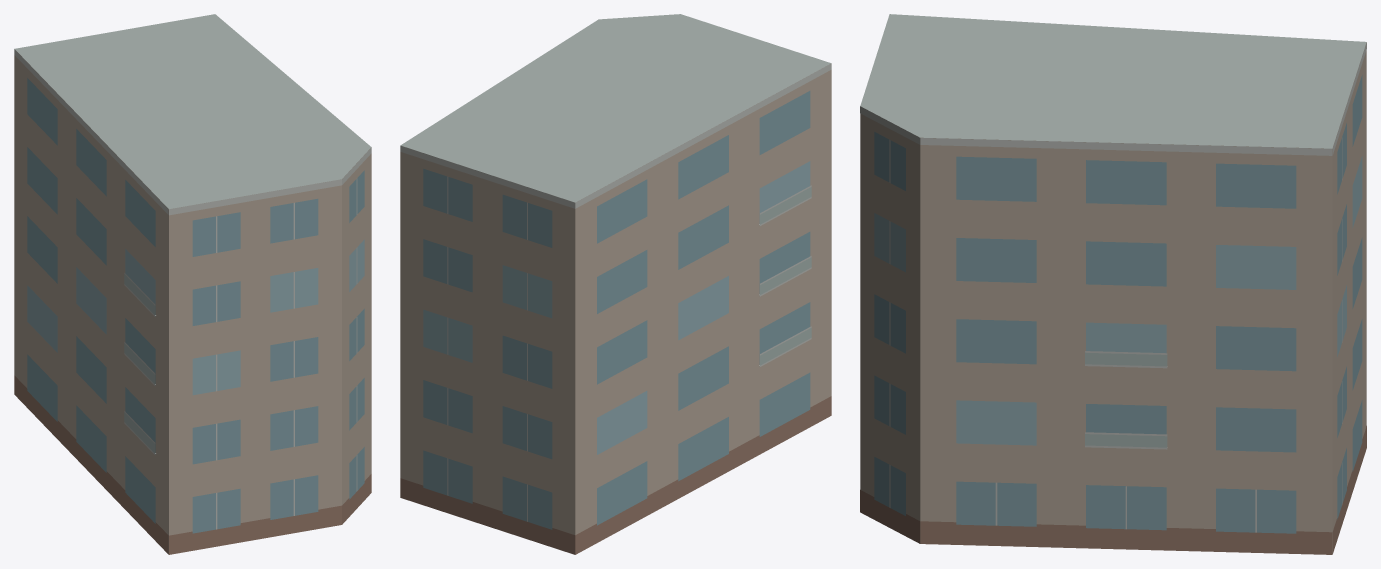
File: survey-upis-33034659.glb
3 views of the same model, side by side, from view 1: azimuth 30°, elevation 25°; view 2: azimuth 150°, elevation 25°; view 3: azimuth 270°, elevation 25° (orthographic). The views are drawn at different scales.
Visible parts, largest first — view 1: survey-upis-33034659.tmp; view 2: survey-upis-33034659.tmp; view 3: survey-upis-33034659.tmp.
Boxes of the visible parts, x1,y1,x2,y2 form: survey-upis-33034659.tmp: (14,14,371,554); survey-upis-33034659.tmp: (400,14,831,554); survey-upis-33034659.tmp: (860,14,1366,554).
Bounding box in the file's own units: 9.75 × 13.7 × 15.49.
